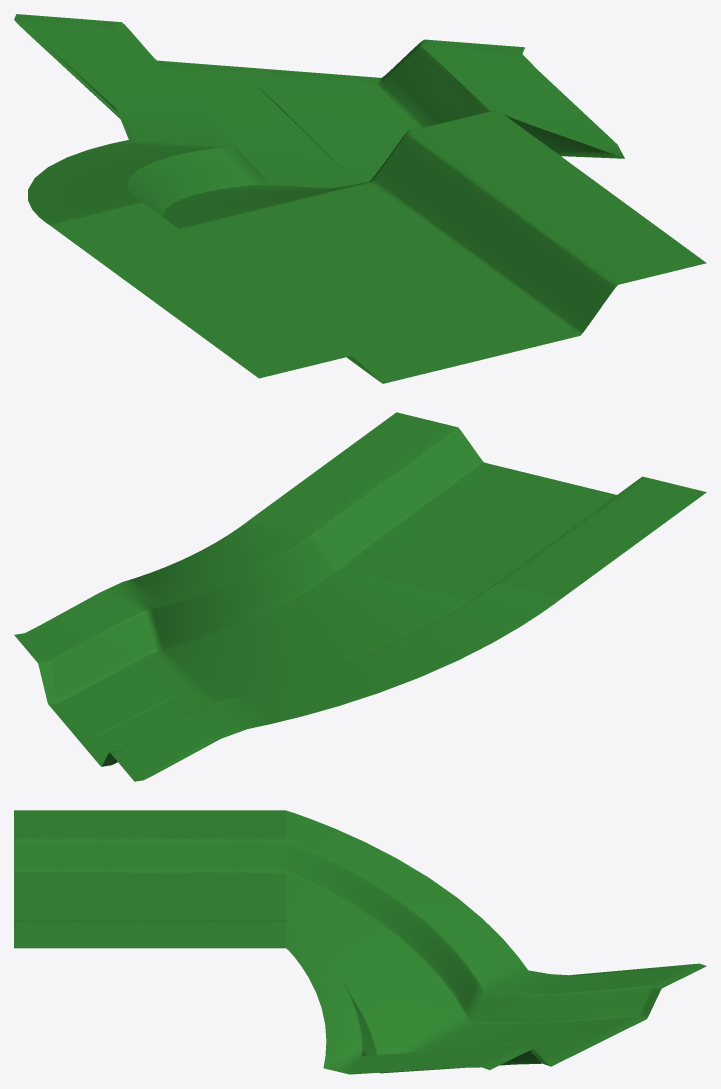
The model's file is MyStage2.fbx.
3 views of the same model, one above another, from view 1: azimuth 30°, elevation 25°; view 2: azimuth 150°, elevation 25°; view 3: azimuth 270°, elevation 25° (orthographic). The views are drawn at different scales.
Visible parts, largest first — view 1: pPlane1; view 2: pPlane1; view 3: pPlane1.
Boxes of the visible parts, left/top/right/bottom form: pPlane1: left=14, top=14, right=706, bottom=383; pPlane1: left=14, top=412, right=706, bottom=781; pPlane1: left=14, top=810, right=706, bottom=1074.
Bounding box in the file's own units: 243 × 58.05 × 355.
